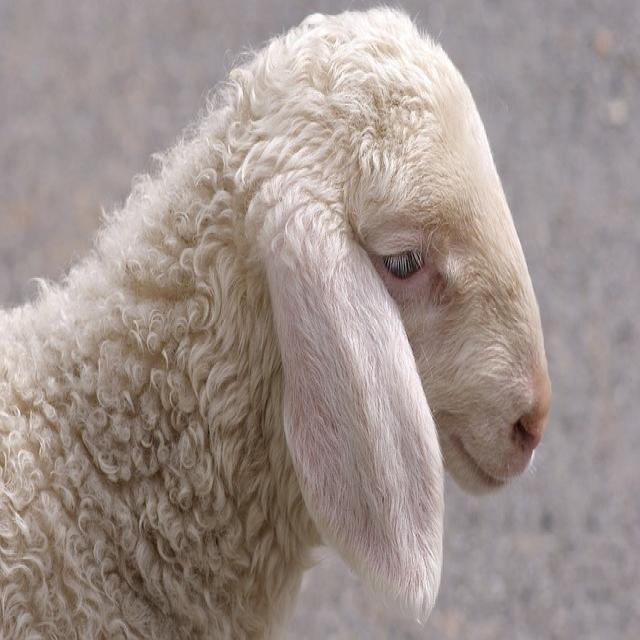goat: (0, 9, 550, 638)
